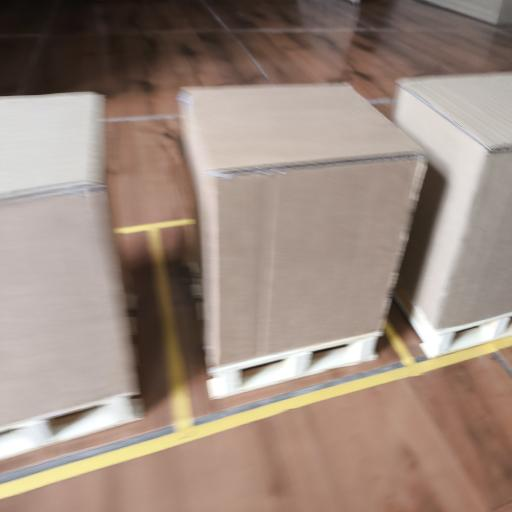pallet: (206, 332, 382, 398), (0, 396, 143, 459), (395, 288, 511, 358)
